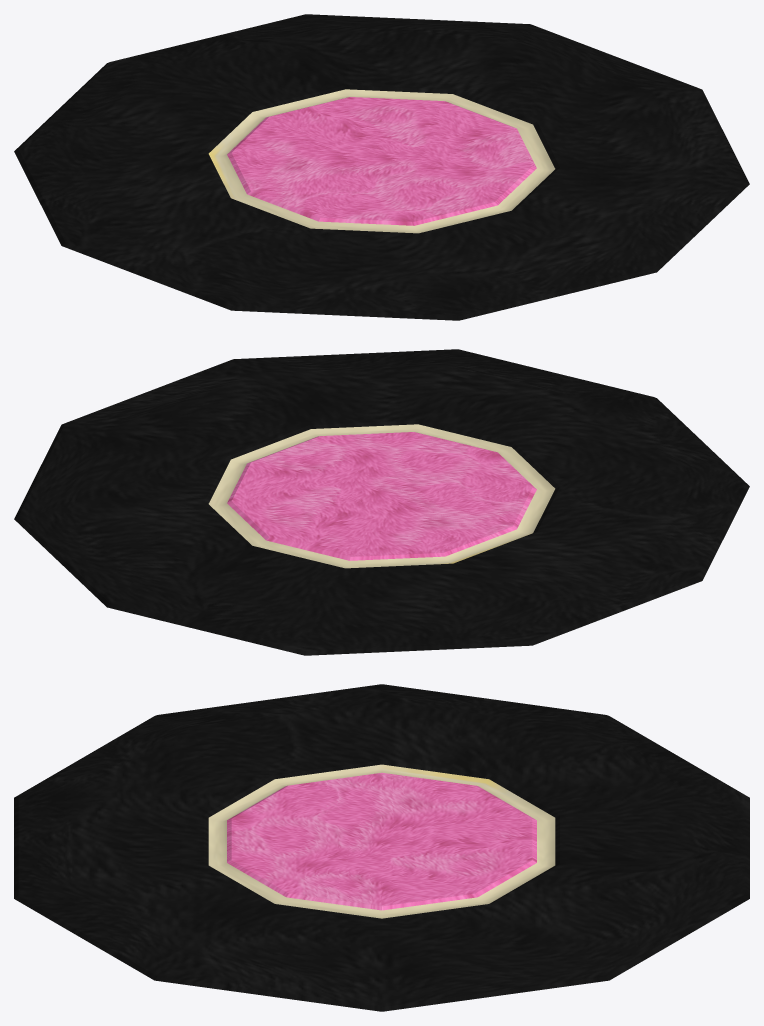
The model's file is Circular_Carpet_04_B.FBX.
The picture shows the model from 3 angles, top to bottom: view 1: azimuth 30°, elevation 25°; view 2: azimuth 150°, elevation 25°; view 3: azimuth 270°, elevation 25°; orthographic projection. The views are drawn at different scales.
Parts seen in each view (by area): view 1: Circular_Carpet; view 2: Circular_Carpet; view 3: Circular_Carpet.
Part boxes in pixels (box(x1,y1,x2,y2)): Circular_Carpet: box(14, 14, 749, 320); Circular_Carpet: box(14, 349, 749, 655); Circular_Carpet: box(14, 684, 749, 1011).
Bounding box in the file's own units: 316 × 4.05 × 300.
